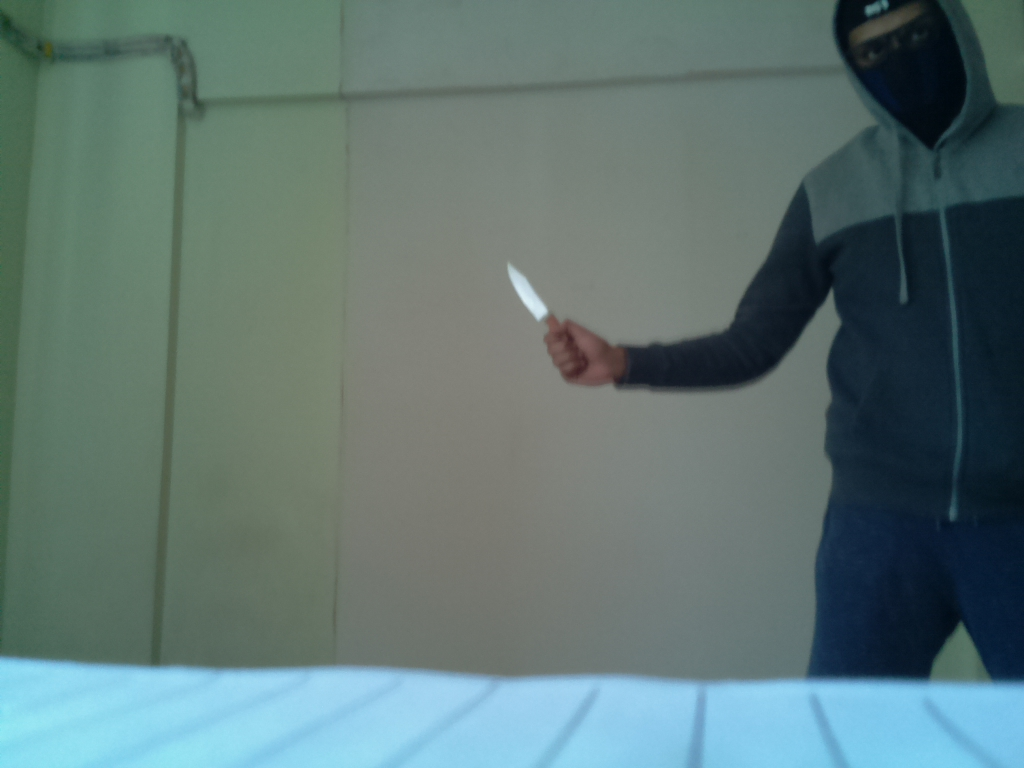knife: (490, 251, 566, 340)
